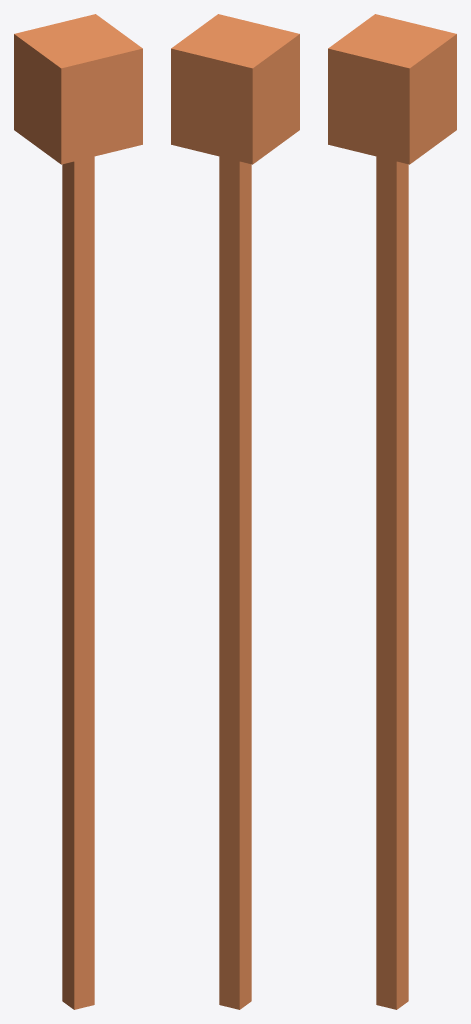
File: fire_staff.glb
The picture shows the model from 3 angles, left to right: view 1: azimuth 30°, elevation 25°; view 2: azimuth 150°, elevation 25°; view 3: azimuth 330°, elevation 25°; orthographic projection.
Visible parts, largest first — view 1: fire_staff; view 2: fire_staff; view 3: fire_staff.
Part boxes in pixels (x1,y1,x2,y2): fire_staff: [14, 14, 142, 1009]; fire_staff: [171, 14, 299, 1009]; fire_staff: [328, 14, 456, 1009].
Bounding box in the file's own units: 0.16 × 1.8 × 0.16.
